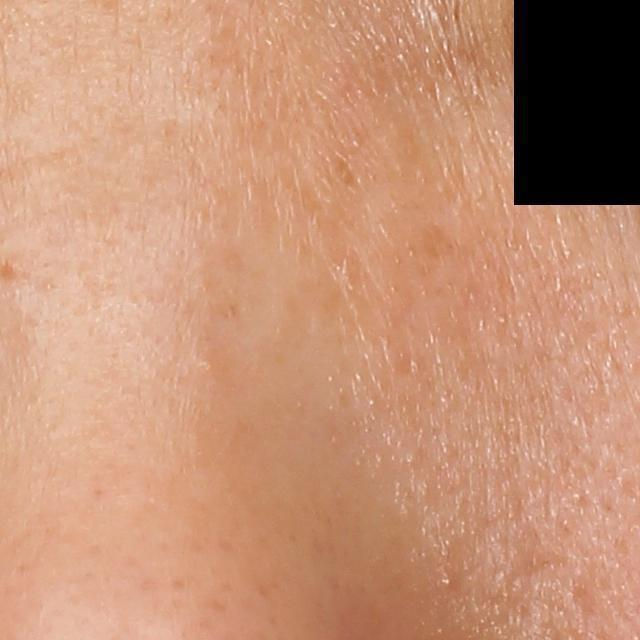comedo: (440, 569, 460, 590)
